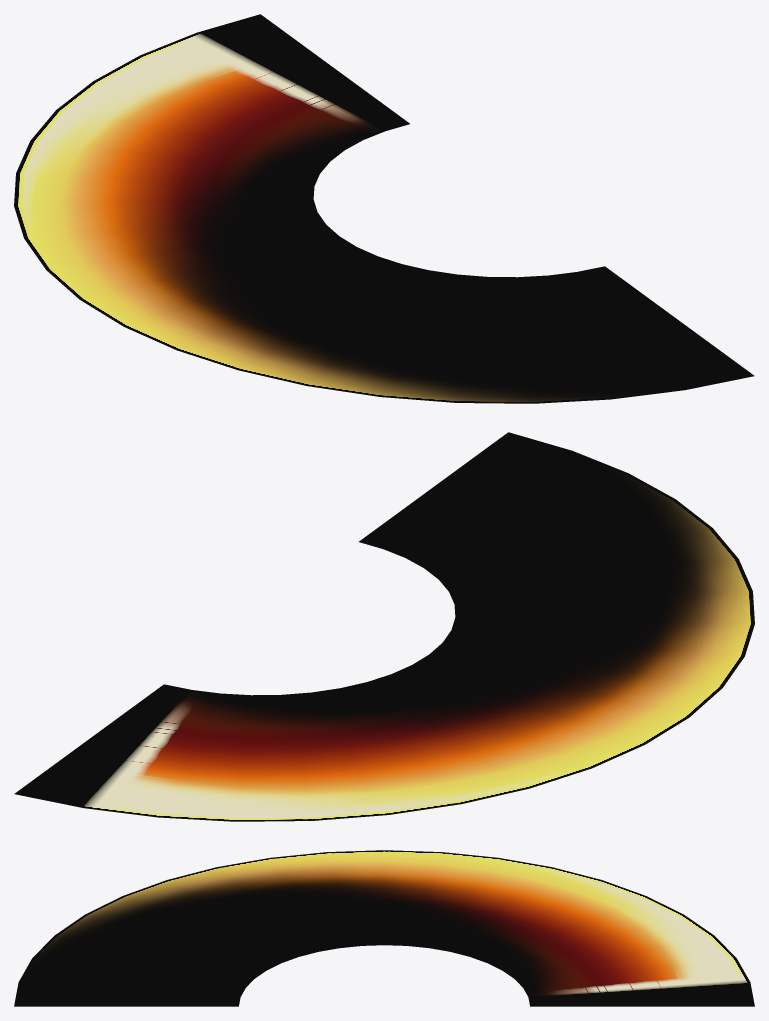
File: bianyuan_daoguang.FBX
3 renders of one model, top to bottom at view 1: azimuth 30°, elevation 25°; view 2: azimuth 150°, elevation 25°; view 3: azimuth 270°, elevation 25°, orthographic. The views are drawn at different scales.
Parts seen in each view (by area): view 1: Plane001; view 2: Plane001; view 3: Plane001.
Part boxes in pixels (x1,y1,x2,y2): Plane001: (14,14,754,403); Plane001: (14,432,754,821); Plane001: (14,850,754,1006).
Size of the model in its own units: 65.92 by 3.73e-06 by 132.
Materials: 1 (1 with a texture image).
